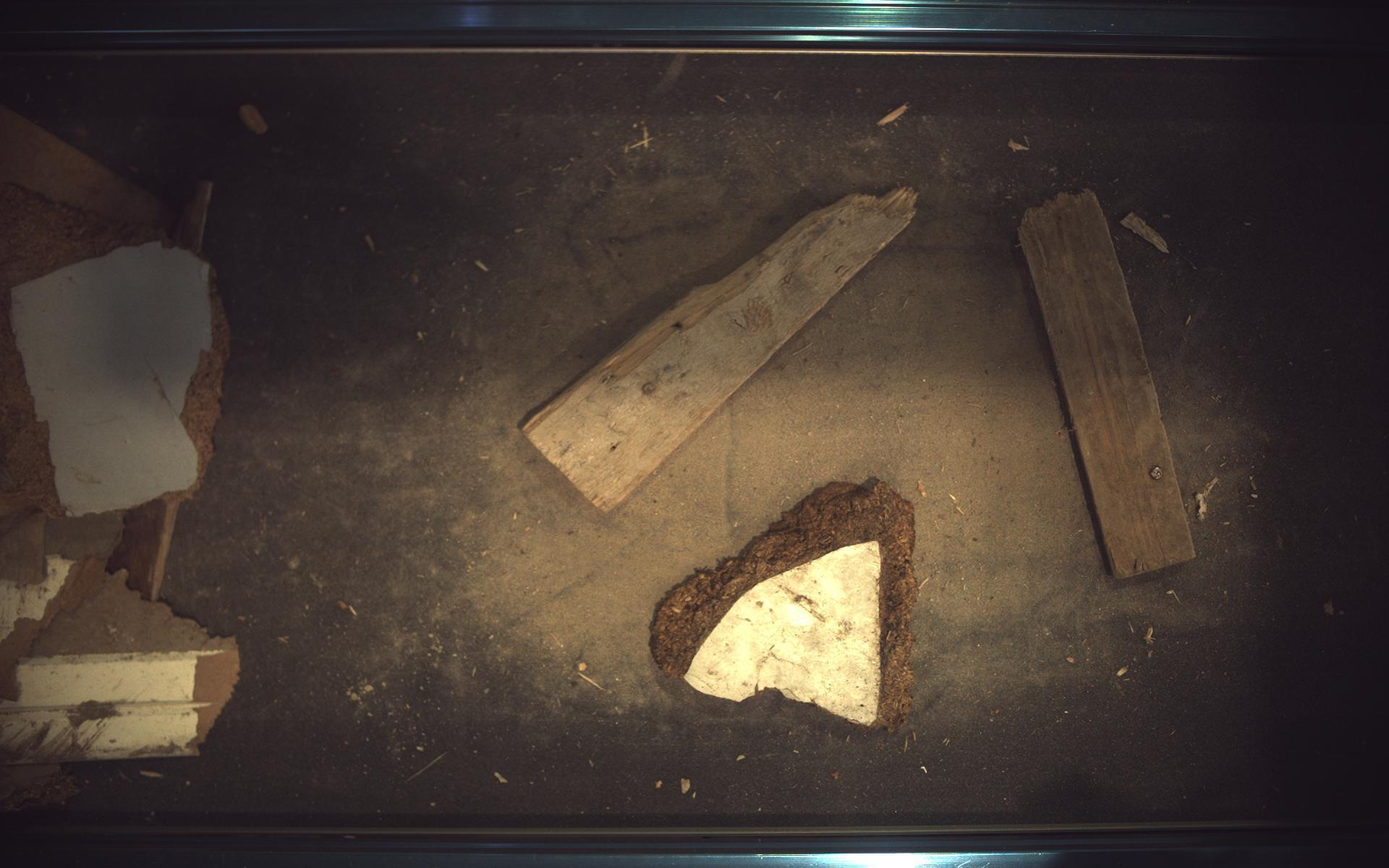wood: (524, 187, 919, 511), (1, 109, 228, 600), (1021, 189, 1198, 579), (651, 480, 919, 732), (1, 572, 239, 766), (107, 494, 182, 600), (171, 179, 212, 255)
